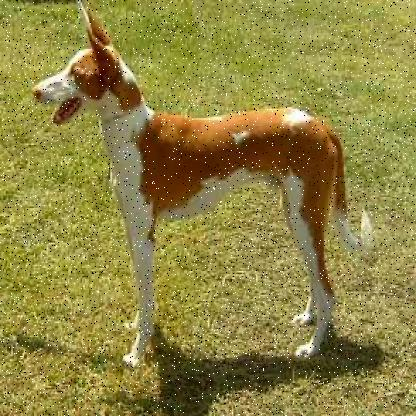dog: (38, 2, 379, 384)
